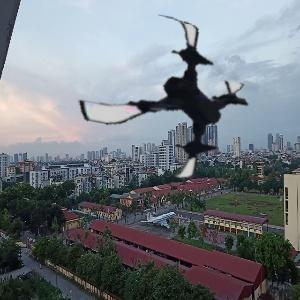drone: (80, 13, 254, 187)
